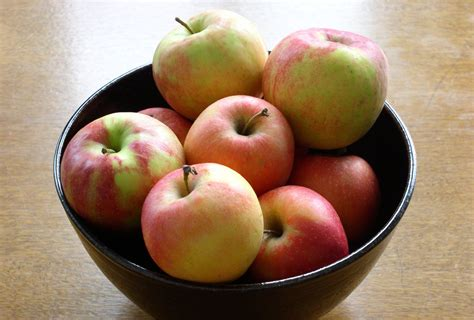apple: (263, 27, 393, 154), (137, 159, 262, 287), (57, 108, 186, 227), (148, 7, 271, 124), (243, 182, 355, 284), (179, 94, 299, 188)
